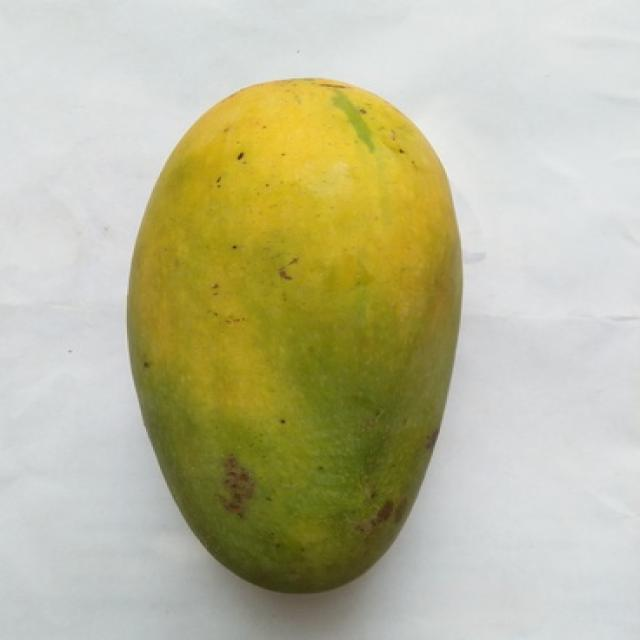Mango: (127, 78, 461, 592)
